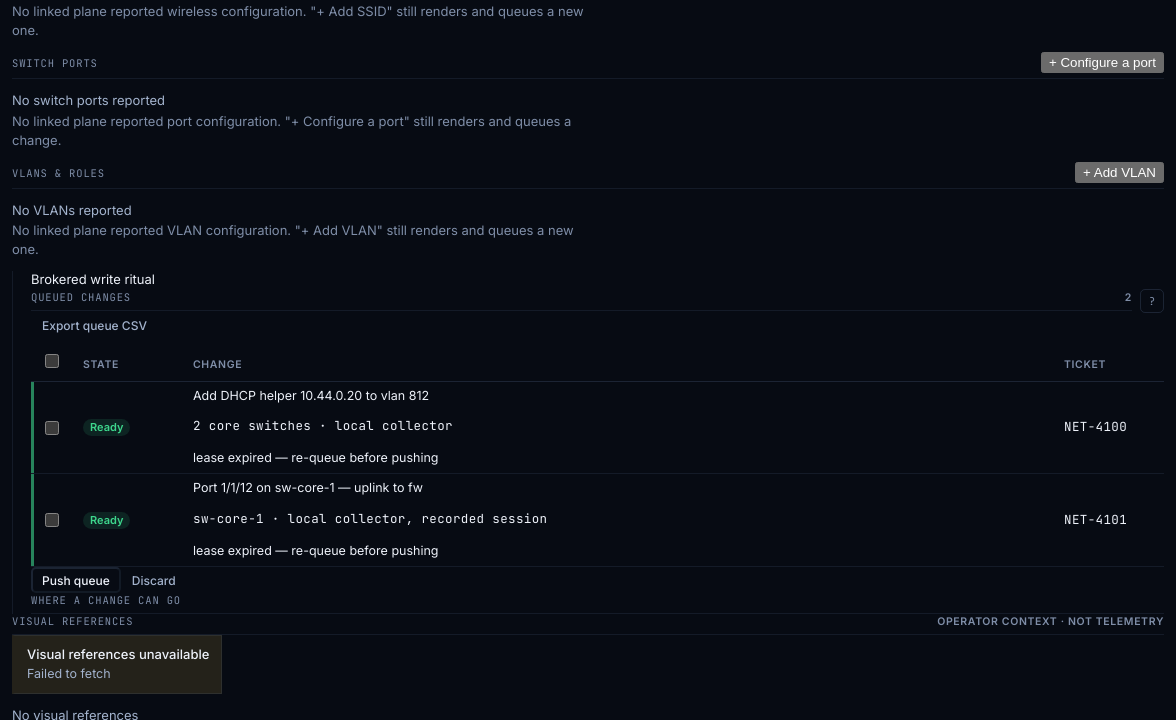
Test: Configure — the change-queue bulk action bar › separates an unknown push outcome from retryable failures and keeps its applying row
This screenshot has width=1176, height=720.
(page scrolled)
Expected: the text "NET-4101" is shown, [1064,511,1127,528]
Click the checkbox named "Select all queued changes". click: [52, 361]
box: [44,354,60,368]
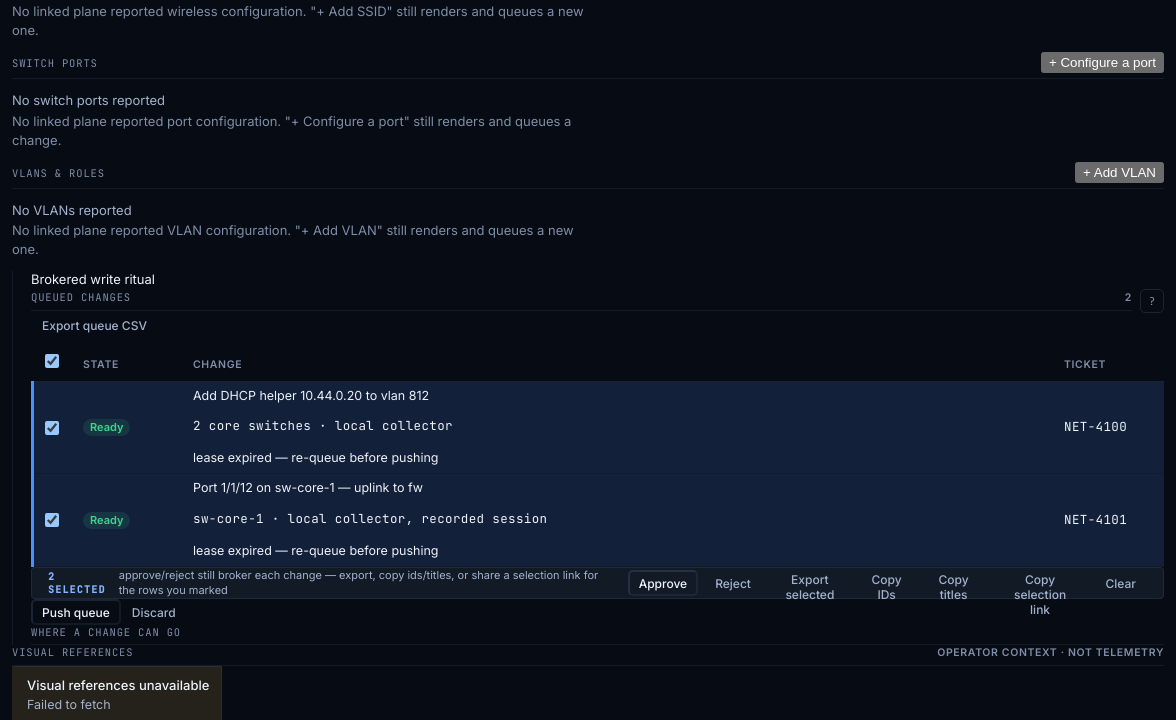
Click the button "Approve". click: [663, 583]
box: [628,570,698,596]
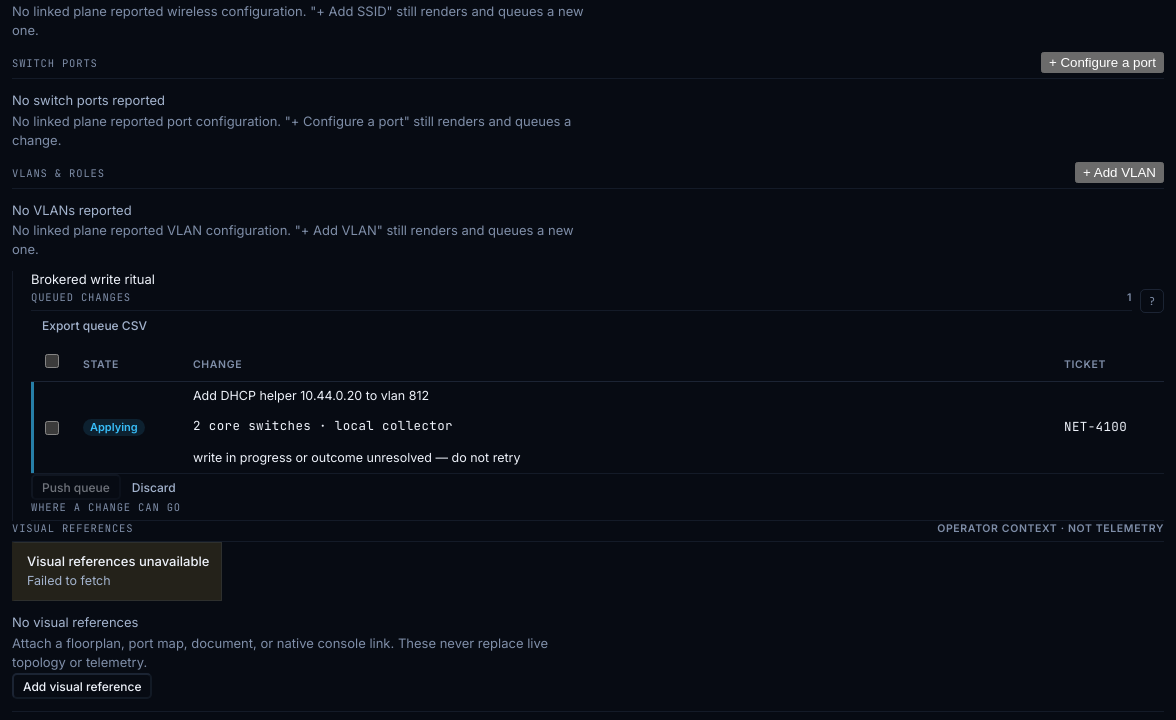
Now the text "applying" is shown, box [83,419,145,436]
